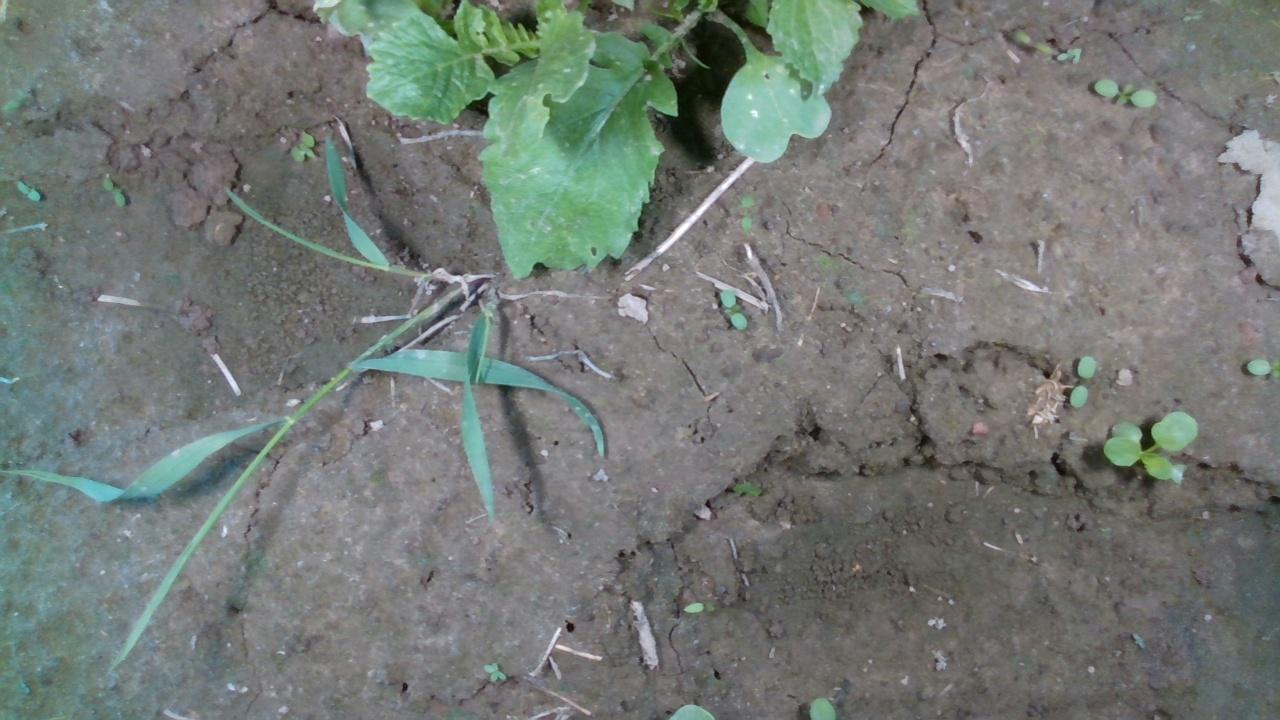weed: (1092, 74, 1158, 110), (1067, 351, 1096, 408), (716, 286, 747, 332), (99, 174, 125, 207), (14, 179, 41, 202), (481, 658, 506, 682)
